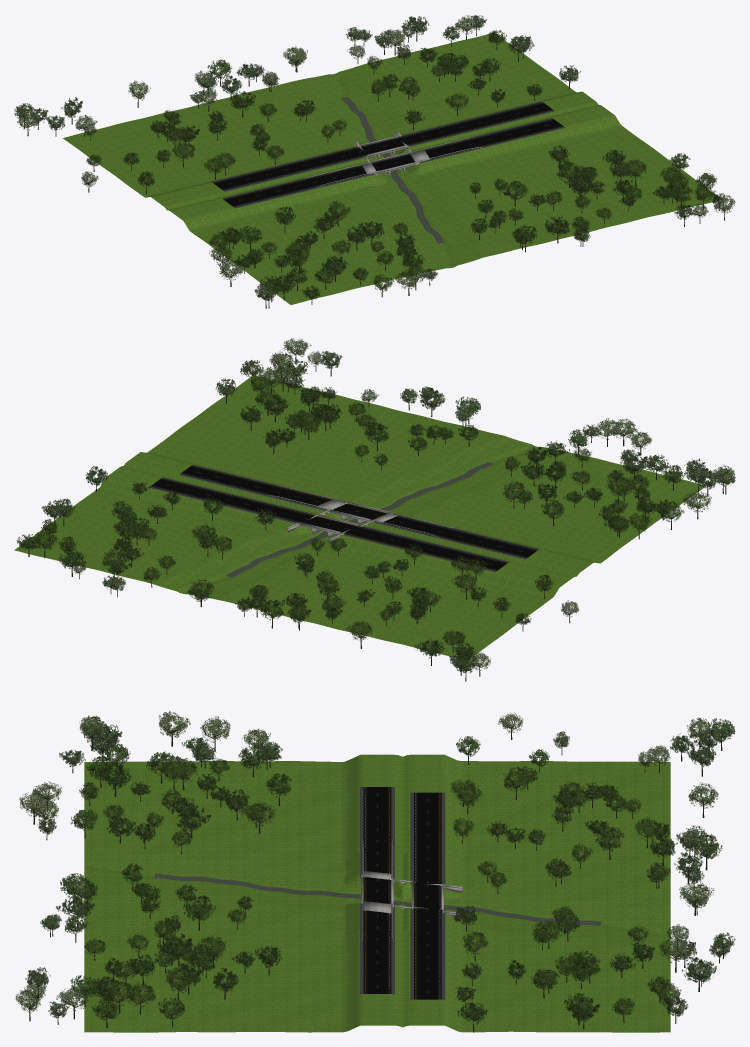
File: bridge_41750.glb
3 views of the same model, one above another, from view 1: azimuth 30°, elevation 25°; view 2: azimuth 150°, elevation 25°; view 3: azimuth 270°, elevation 25° (orthographic). The views are drawn at different scales.
Parts seen in each view (by area): view 1: TerrainOuter, TerrainInner, Approach1.001, Approach0.001, Approach0, Approach1, Water; view 2: TerrainOuter, TerrainInner, Approach0.001, Approach1.001, Approach0, Approach1, Water; view 3: TerrainOuter, TerrainInner, Approach0.001, Approach1.001, Approach0, Approach1, TreeLeaves1 (×4), Water, TreeLeaves2 (×3), TreeLeaves0 (×2), DeckSurface, DeckSurface.001.
Part boxes in pixels (x1,y1,x2,y2): TerrainOuter: [63, 33, 720, 304]; TerrainInner: [319, 139, 484, 207]; Approach1.001: [399, 102, 553, 145]; Approach0.001: [213, 147, 366, 190]; Approach0: [223, 165, 367, 206]; Approach1: [424, 118, 563, 159]; Water: [341, 97, 445, 243]; TerrainOuter: [14, 375, 705, 659]; TerrainInner: [262, 478, 457, 555]; Approach0.001: [344, 526, 507, 570]; Approach1.001: [150, 478, 314, 522]; Approach0: [381, 516, 537, 558]; Approach1: [180, 465, 331, 506]; Water: [225, 462, 493, 577]; TerrainOuter: [84, 754, 670, 1032]; TerrainInner: [293, 852, 461, 936]; Approach0.001: [414, 792, 441, 883]; Approach1.001: [414, 908, 441, 999]; Approach0: [363, 787, 391, 873]; Approach1: [363, 910, 391, 993]; TreeLeaves1 (×4): [158, 711, 713, 963]; Water: [153, 873, 601, 925]; TreeLeaves2 (×3): [56, 764, 716, 983]; TreeLeaves0 (×2): [182, 834, 722, 920]; DeckSurface: [363, 877, 391, 903]; DeckSurface.001: [414, 882, 441, 909].
Size of the model in its own units: 1028 by 59.67 by 1034.
Materials: 15 (12 with a texture image).
